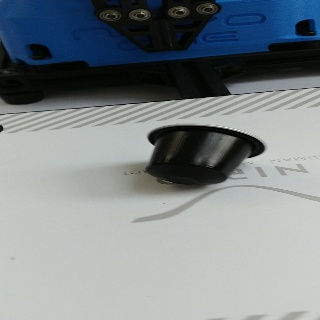capsule_10: (145, 122, 269, 186)
